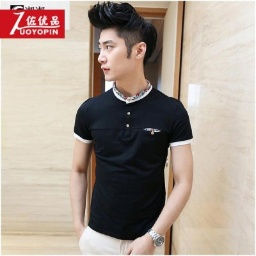face: (89, 2, 160, 83)
